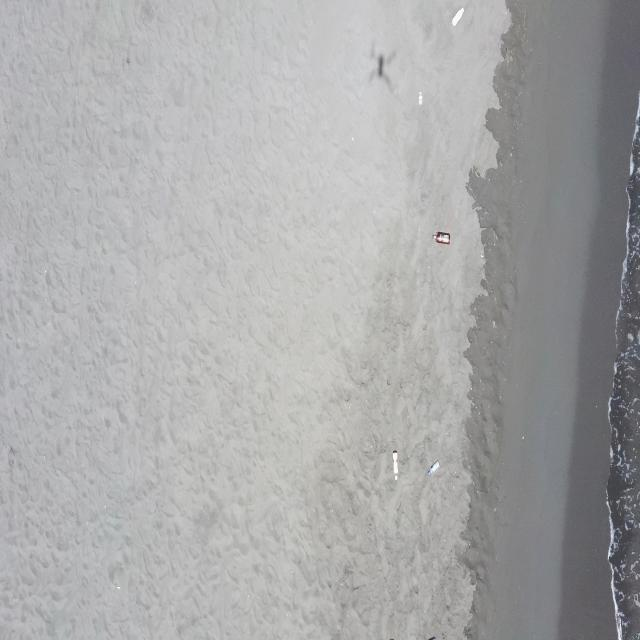Garbage: (452, 8, 464, 26), (427, 460, 439, 475), (433, 232, 449, 241), (392, 449, 395, 479), (417, 91, 422, 104), (427, 635, 435, 639)
